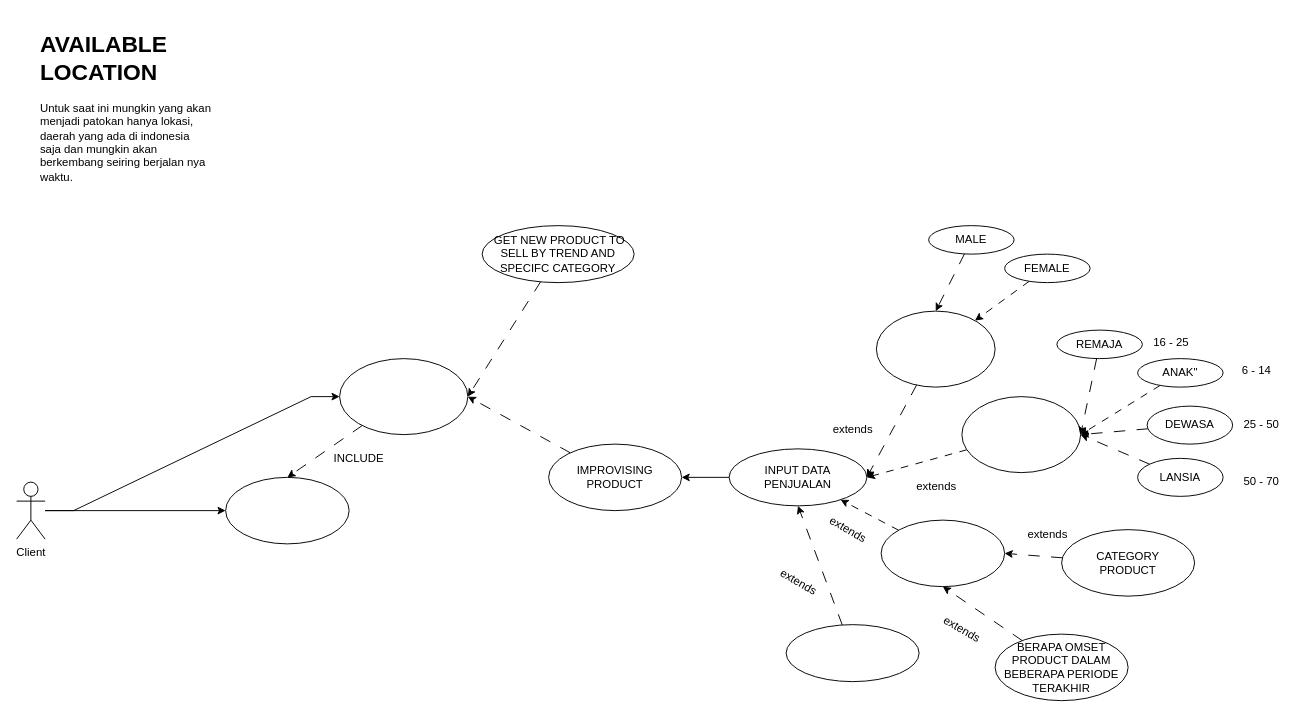
Image size: 1306x717. Some labels were removed from this diagram. Each missing label, with the centre of its shape:
"GENDER TARGET ?" belongs at point 935,348.
"LOCATION" belongs at point 852,653.
"PRODUCT YANG DI JUAL" belongs at point 942,553.
"REGISTRATION" belongs at point 287,510.
"TARGET PRODUCT" belongs at point 1021,434.
"WHAT DO YOU WANT TO DO ?" belongs at point 403,396.
